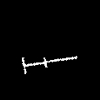double_crochet: (22, 56, 76, 73)
